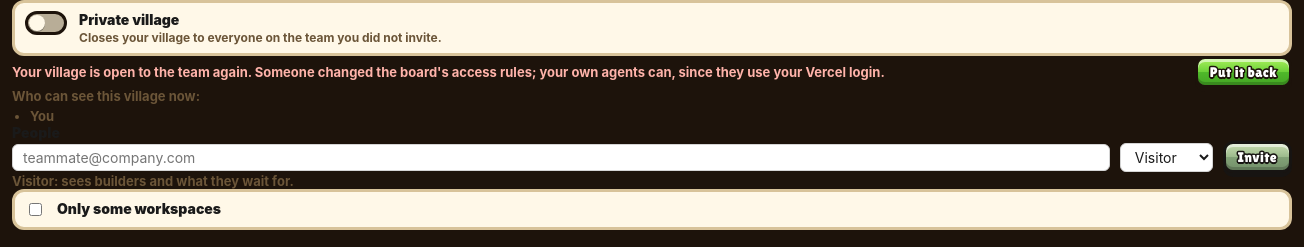
what is not as you set it is said, with a way to put it back
Expected: the message shows "Your village is open to the team again.", [12,64,252,80]
Click the button "Put it back" at (1243, 72), box [1195,56,1292,88]
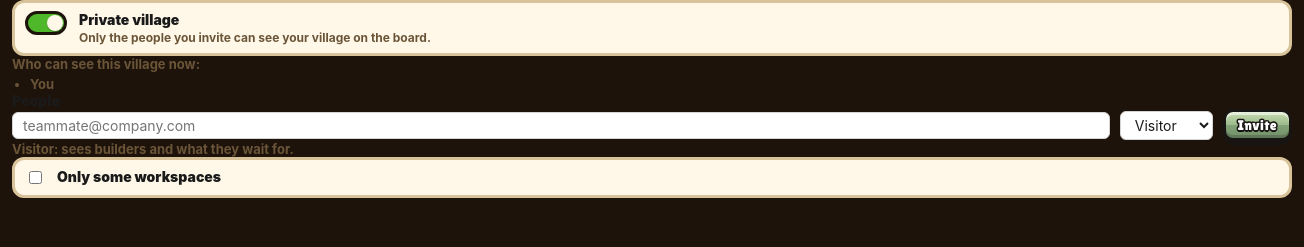
Result: the message is gone
